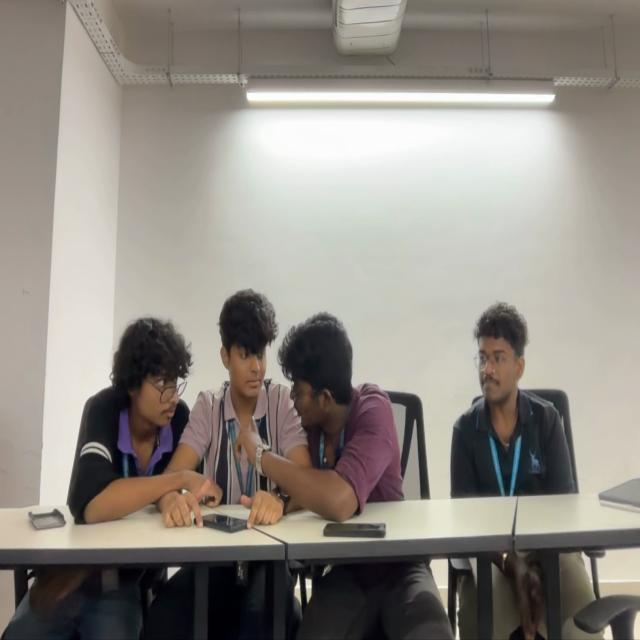Isolated: (455, 306, 576, 494)
socializing: (71, 291, 403, 504)
